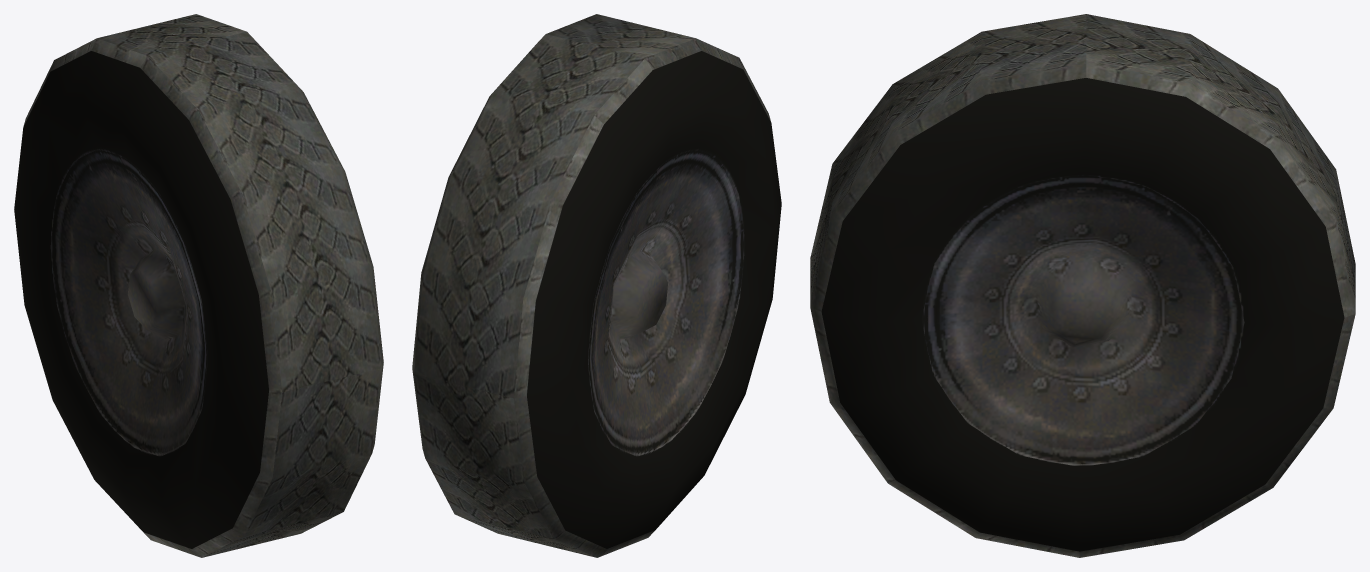
File: truck_wheel.obj
3 renders of one model, left to right at view 1: azimuth 30°, elevation 25°; view 2: azimuth 150°, elevation 25°; view 3: azimuth 270°, elevation 25°, orthographic. The views are drawn at different scales.
Visible parts, largest first — view 1: Jeep.004; view 2: Jeep.004; view 3: Jeep.004.
Part boxes in pixels (left/top/right/bottom): Jeep.004: left=14, top=14, right=383, bottom=557; Jeep.004: left=412, top=14, right=781, bottom=557; Jeep.004: left=810, top=14, right=1355, bottom=557.
Size of the model in its own units: 20.24 by 60.46 by 60.46.
1 material, 1 textured.
